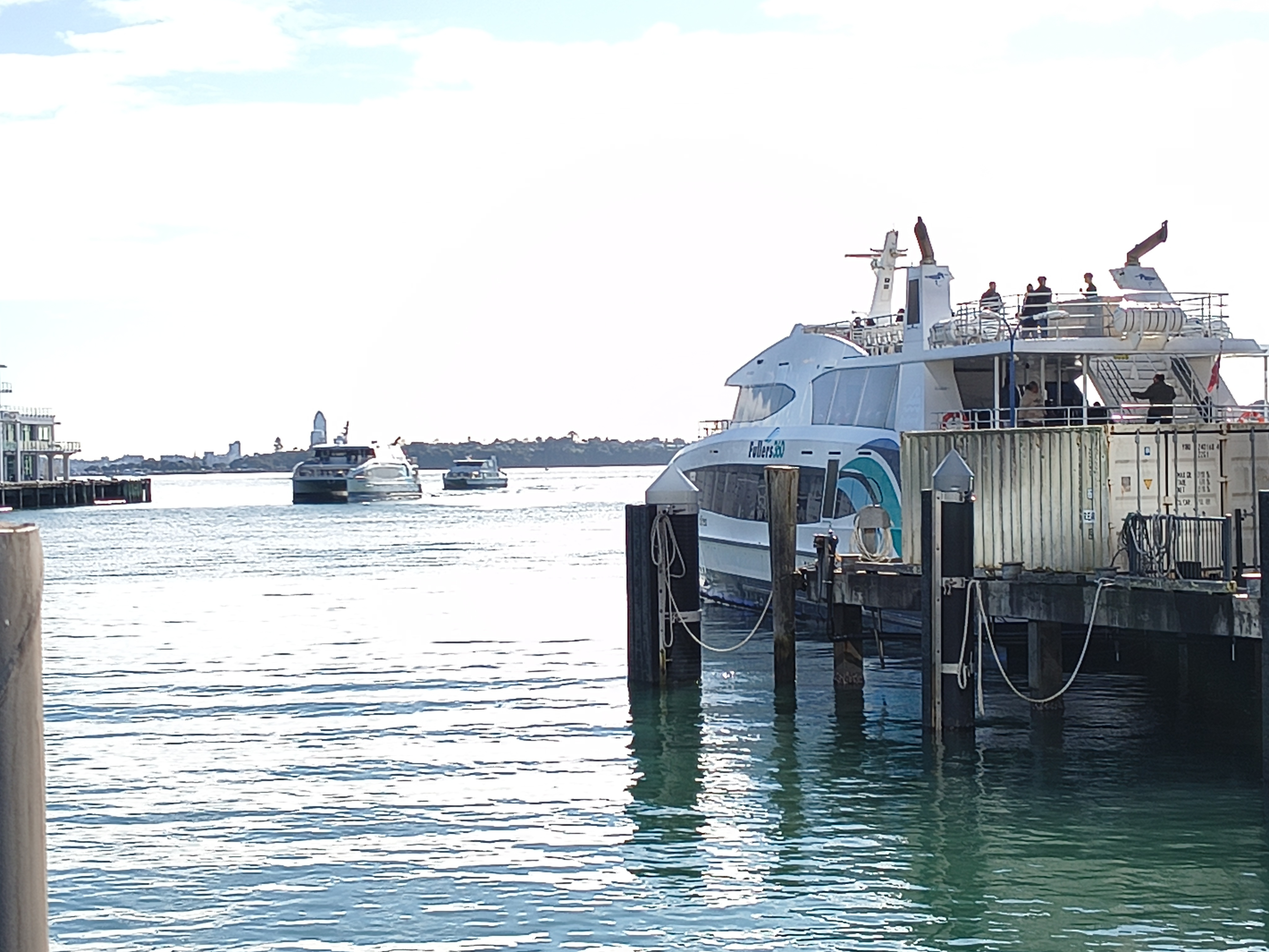ferry: (645, 228, 1267, 641), (291, 431, 419, 503)
